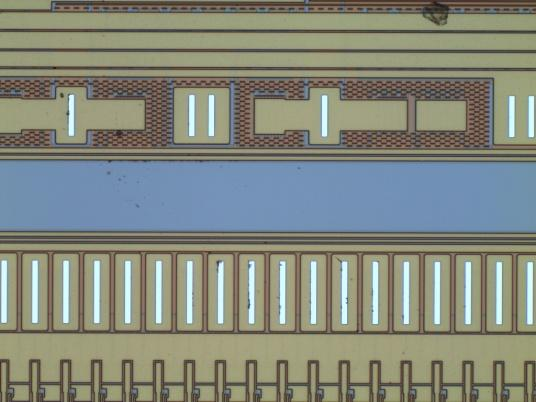PO CONTAMINATION: (57, 1, 473, 325)
